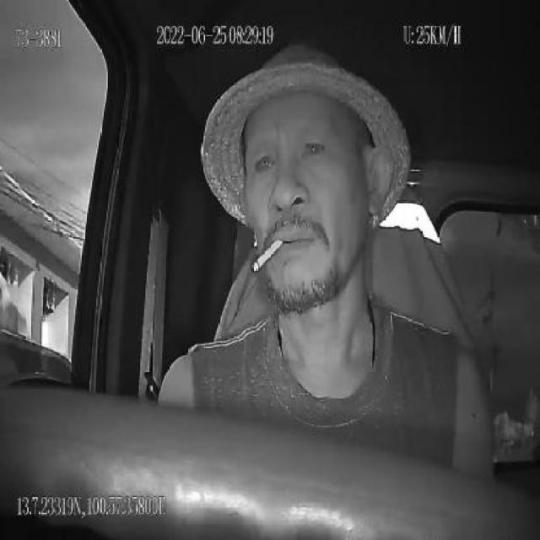smoking: (252, 235, 283, 273)
